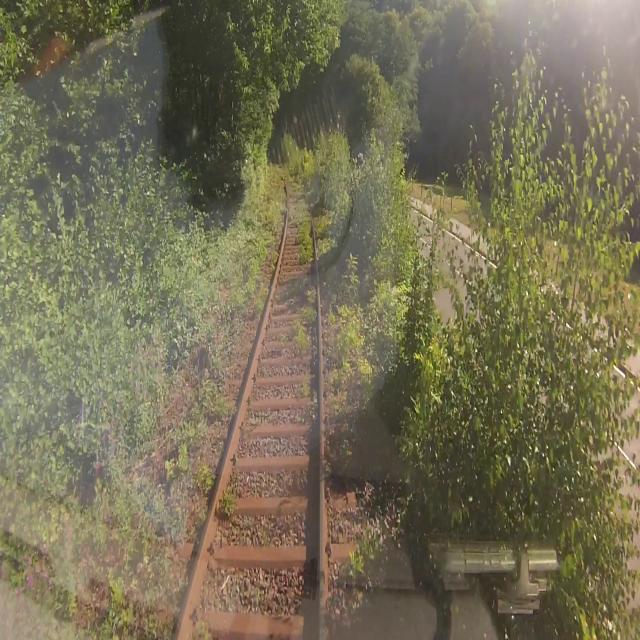Plant: (74, 162, 285, 639), (289, 149, 389, 478), (280, 278, 318, 426), (347, 499, 397, 601), (281, 165, 313, 263), (217, 494, 234, 519)
